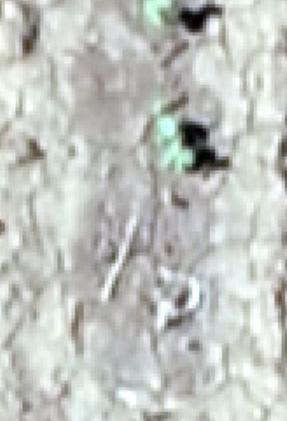cotton: (143, 1, 171, 24), (166, 145, 192, 167), (159, 117, 179, 139)
